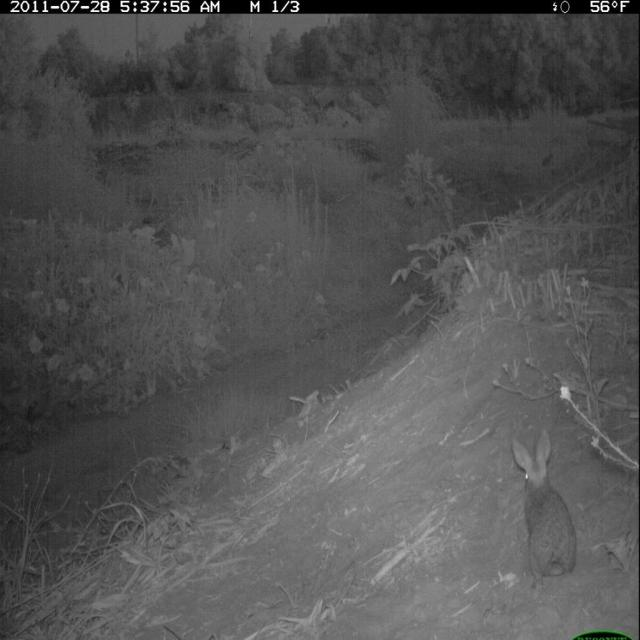rabbit: (507, 426, 582, 593)
